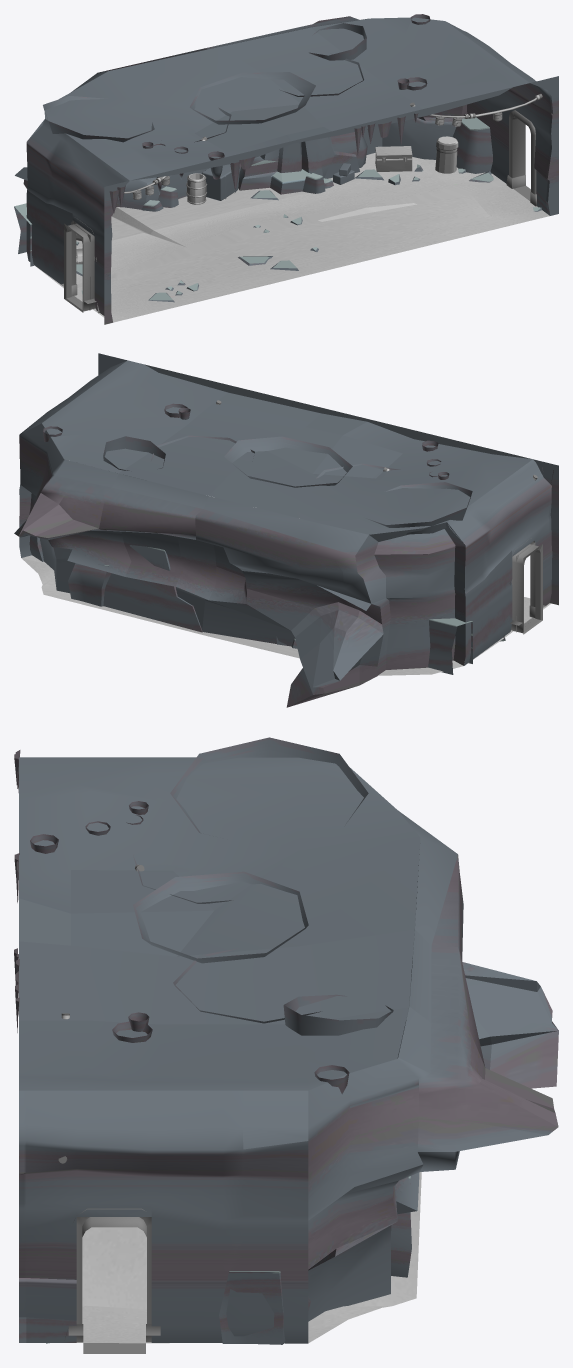
Rendered from MSH_QuestCave_L2_R2_optimized.fbx.
3 renders of one model, top to bottom at view 1: azimuth 30°, elevation 25°; view 2: azimuth 150°, elevation 25°; view 3: azimuth 270°, elevation 25°, orthographic. The views are drawn at different scales.
Parts seen in each view (by area): view 1: lightmap1, lightmap0; view 2: lightmap1, lightmap0; view 3: lightmap1, lightmap0.
Part boxes in pixels (x1,y1,x2,y2): lightmap1: (15, 16, 558, 324); lightmap0: (14, 14, 549, 322); lightmap1: (14, 353, 558, 707); lightmap0: (21, 400, 551, 675); lightmap1: (14, 750, 558, 1343); lightmap0: (30, 737, 421, 1353).
Size of the model in its own units: 20.63 by 6.78 by 12.36.
